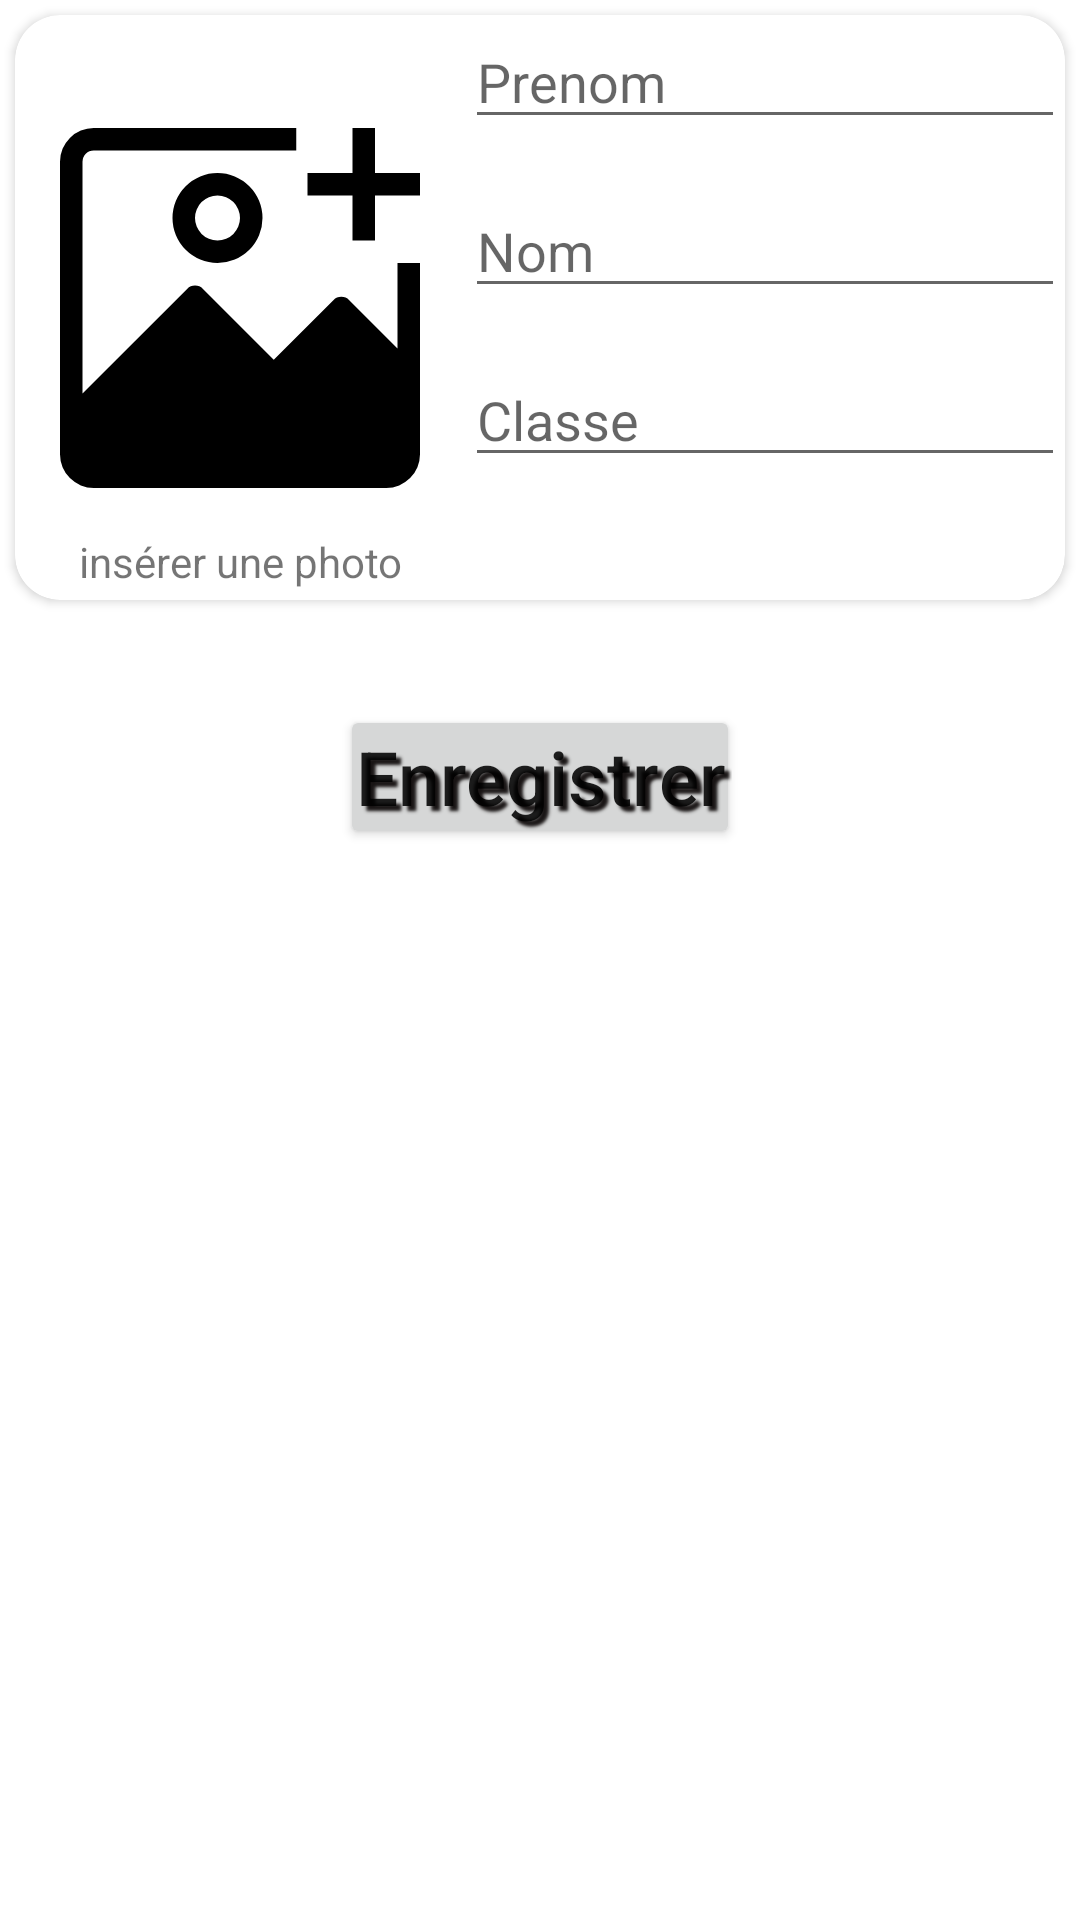

Point at icon controls on the screen. Image size 1080*1920, points as (x,y).
Image profile: (240,308)
